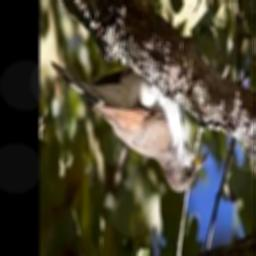Cuckoo: (52, 60, 209, 193)
